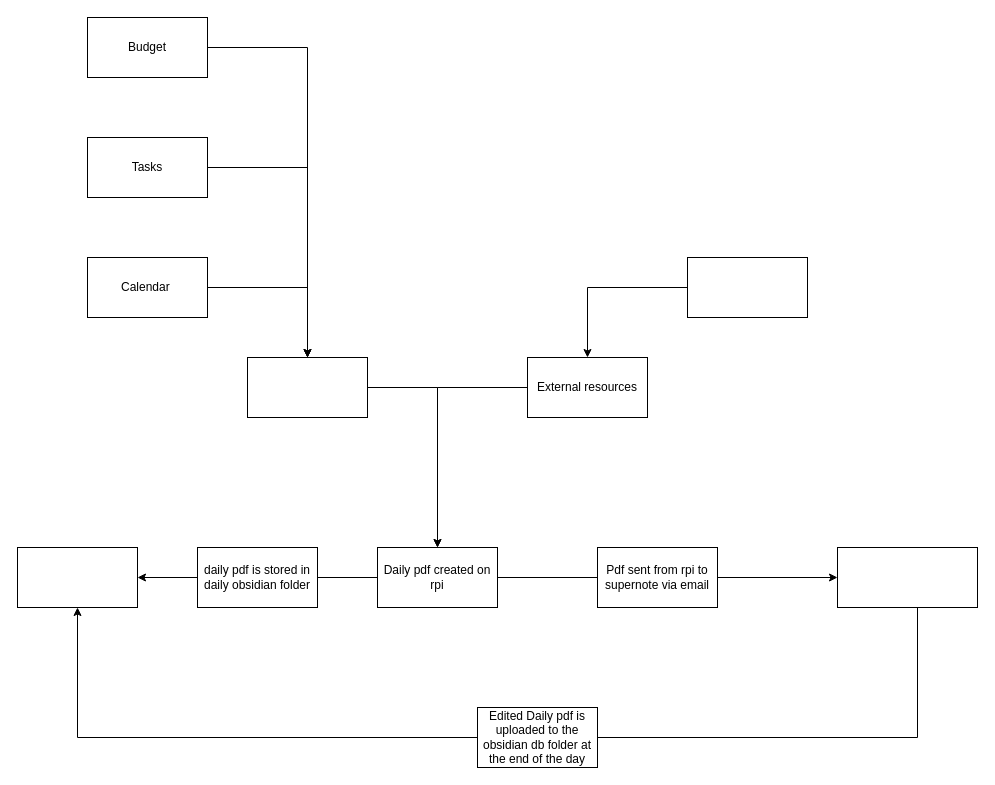
Image size: 995x785. Some labels were removed from this diagram. Each missing label, with the centre of its shape:
"Daily pdf used to track habits during the dat" goes at point (907, 577).
"Granma Daily" goes at point (747, 287).
"Internal resources" goes at point (307, 387).
"Obsidian db folder created on rpi" goes at point (77, 577).
